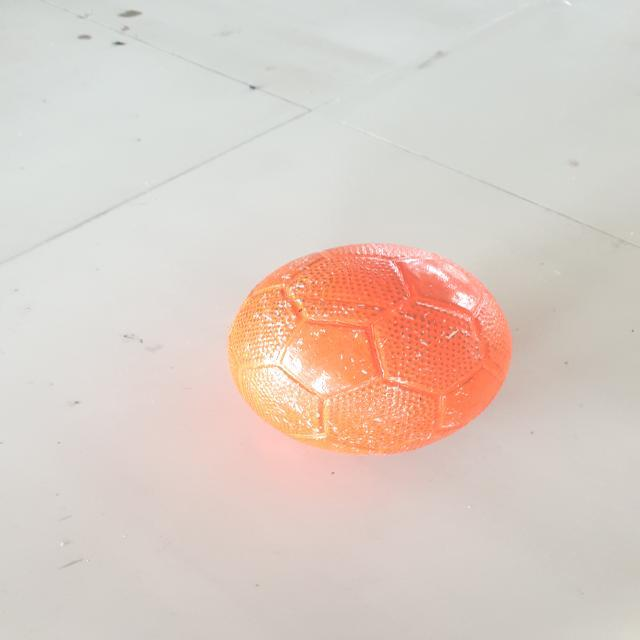bola: (223, 238, 504, 462)
